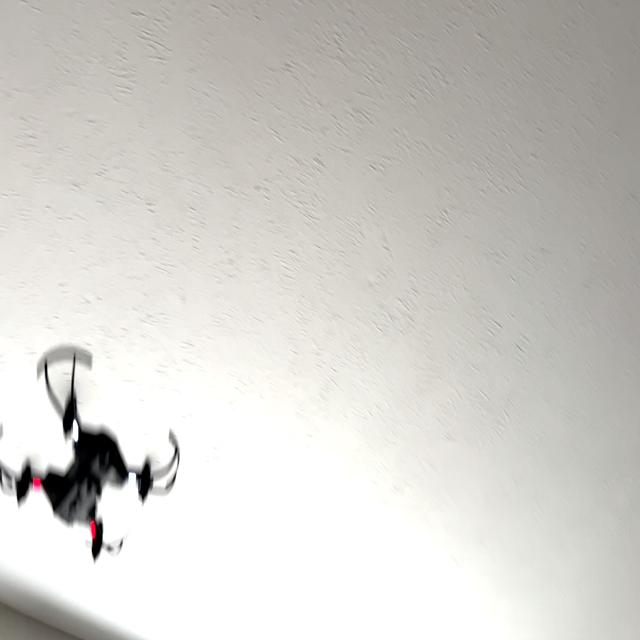drone: (0, 334, 187, 577)
